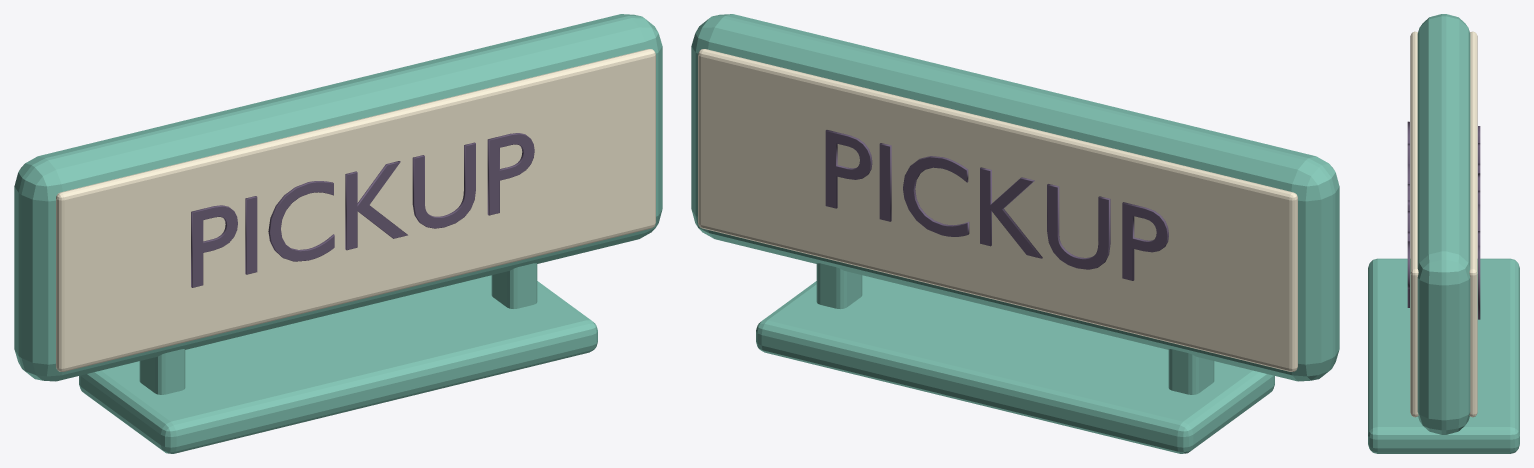
Rendered from PickupSign.fbx.
3 views of the same model, side by side, from view 1: azimuth 30°, elevation 25°; view 2: azimuth 150°, elevation 25°; view 3: azimuth 270°, elevation 25° (orthographic). The views are drawn at different scales.
Parts seen in each view (by area): view 1: Cream face.002, Mint foot.001, Mint frame.001, PICKUP front letters, Support.002, Support.003; view 2: Cream face.003, Mint foot.001, Mint frame.001, PICKUP back letters, Support.002, Support.003; view 3: Mint frame.001, Mint foot.001, Cream face.002, Cream face.003, PICKUP back letters, PICKUP front letters.
Boxes of the visible parts, bbox=[...] form: Cream face.002: bbox=[56, 49, 655, 371]; Mint foot.001: bbox=[79, 275, 597, 453]; Mint frame.001: bbox=[14, 14, 662, 381]; PICKUP front letters: bbox=[191, 133, 534, 287]; Support.002: bbox=[139, 349, 185, 394]; Support.003: bbox=[491, 263, 537, 308]; Cream face.003: bbox=[698, 49, 1297, 371]; Mint foot.001: bbox=[756, 275, 1274, 453]; Mint frame.001: bbox=[691, 14, 1339, 381]; PICKUP back letters: bbox=[825, 130, 1168, 280]; Support.002: bbox=[1168, 349, 1214, 394]; Support.003: bbox=[816, 263, 862, 308]; Mint frame.001: bbox=[1417, 14, 1470, 434]; Mint foot.001: bbox=[1368, 258, 1519, 453]; Cream face.002: bbox=[1410, 31, 1418, 417]; Cream face.003: bbox=[1469, 31, 1477, 417]; PICKUP back letters: bbox=[1478, 126, 1480, 319]; PICKUP front letters: bbox=[1407, 121, 1409, 307].
Bounding box in the file's own units: 76 × 32.5 × 19.
